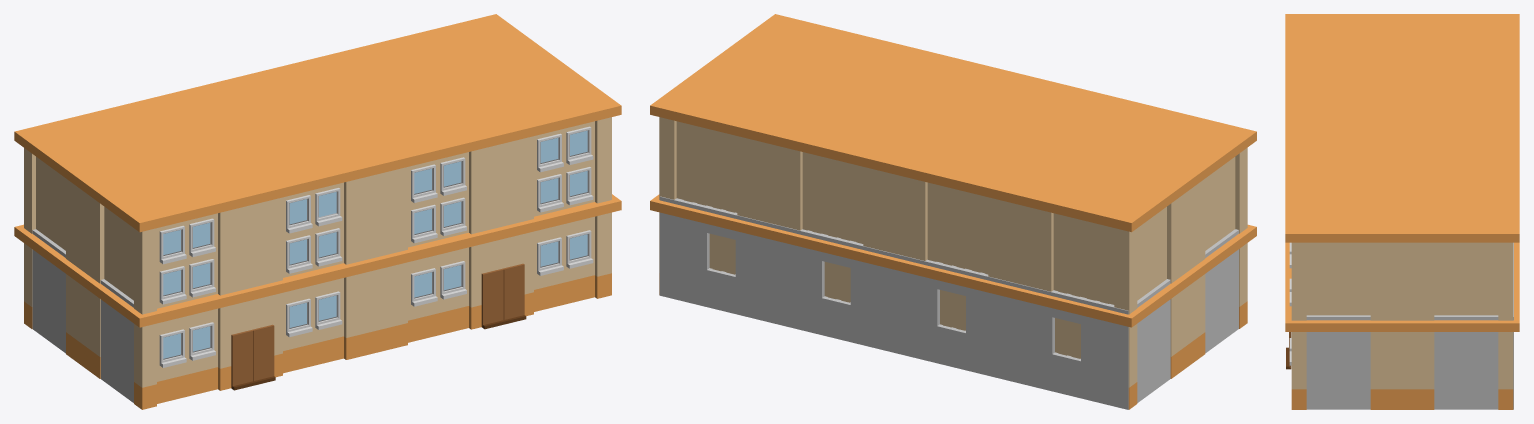
Rendered from House_1.fbx.
3 views of the same model, side by side, from view 1: azimuth 30°, elevation 25°; view 2: azimuth 150°, elevation 25°; view 3: azimuth 270°, elevation 25° (orthographic). The views are drawn at different scales.
Parts seen in each view (by area): view 1: House_1.2, House_1.1; view 2: House_1.2, House_1.1; view 3: House_1.2, House_1.1, Block.214, Block.218, Block.038, Block.042, Block.126, Block.130, Block.170, Block.174, Block.258, Block.262 (+11 smaller).
Part boxes in pixels (x1,y1,x2,y2): House_1.2: (14, 14, 621, 314); House_1.1: (14, 194, 621, 409); House_1.2: (650, 14, 1256, 314); House_1.1: (650, 194, 1256, 409); House_1.2: (1285, 14, 1519, 320); House_1.1: (1285, 242, 1519, 409); Block.214: (1327, 351, 1358, 363); Block.218: (1451, 351, 1482, 363); Block.038: (1327, 398, 1358, 409); Block.042: (1451, 398, 1482, 409); Block.126: (1327, 375, 1358, 386); Block.130: (1451, 375, 1482, 386); Block.170: (1327, 363, 1358, 374); Block.174: (1451, 363, 1482, 374); Block.258: (1327, 340, 1358, 351); Block.262: (1451, 340, 1482, 351).
Bounding box in the file's own units: 1427 × 540 × 642.
